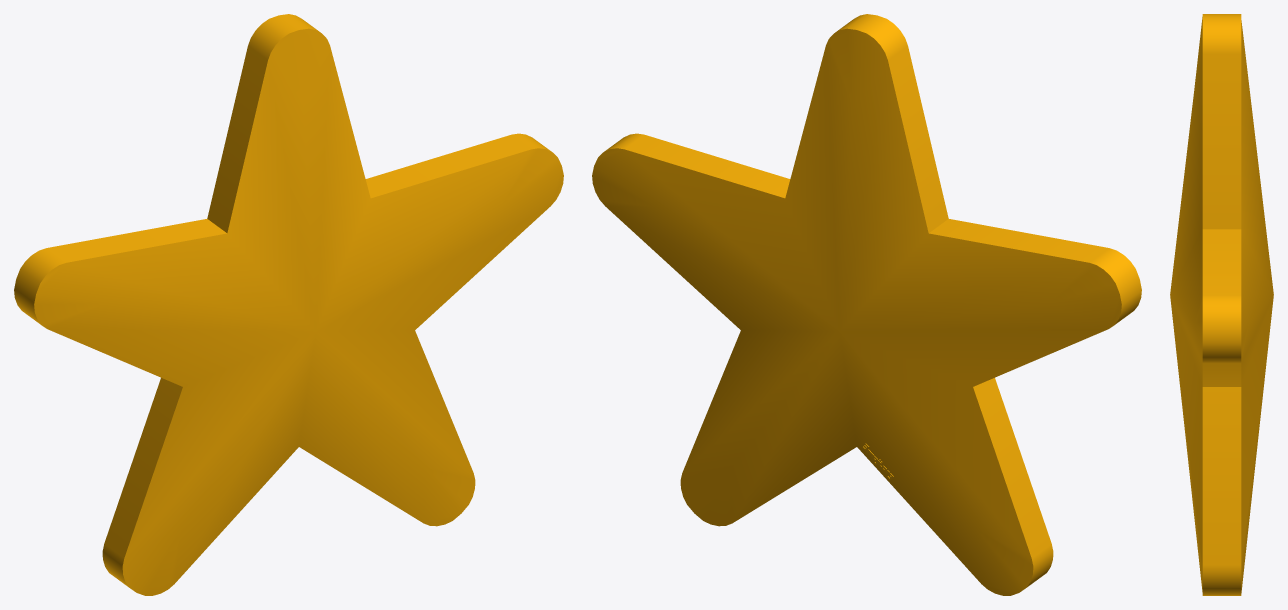
File: star.glb
The picture shows the model from 3 angles, left to right: view 1: azimuth 30°, elevation 25°; view 2: azimuth 150°, elevation 25°; view 3: azimuth 270°, elevation 25°; orthographic projection. The views are drawn at different scales.
Parts seen in each view (by area): view 1: Circle.2112; view 2: Circle.2112; view 3: Circle.2112.
Boxes of the visible parts, x1,y1,x2,y2 form: Circle.2112: [14, 14, 563, 595]; Circle.2112: [592, 14, 1141, 595]; Circle.2112: [1170, 14, 1273, 595].
Bounding box in the file's own units: 2.3 × 2.2 × 0.4067.
1 material, 1 textured.
